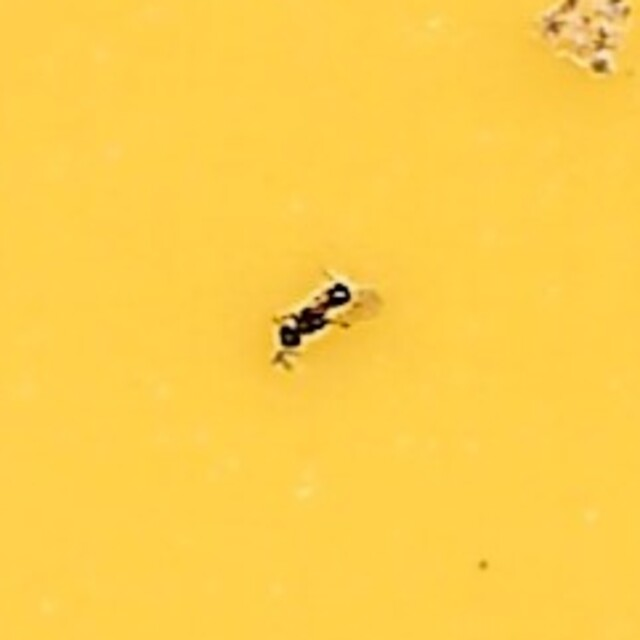Hymenoptera: (266, 270, 374, 370)
